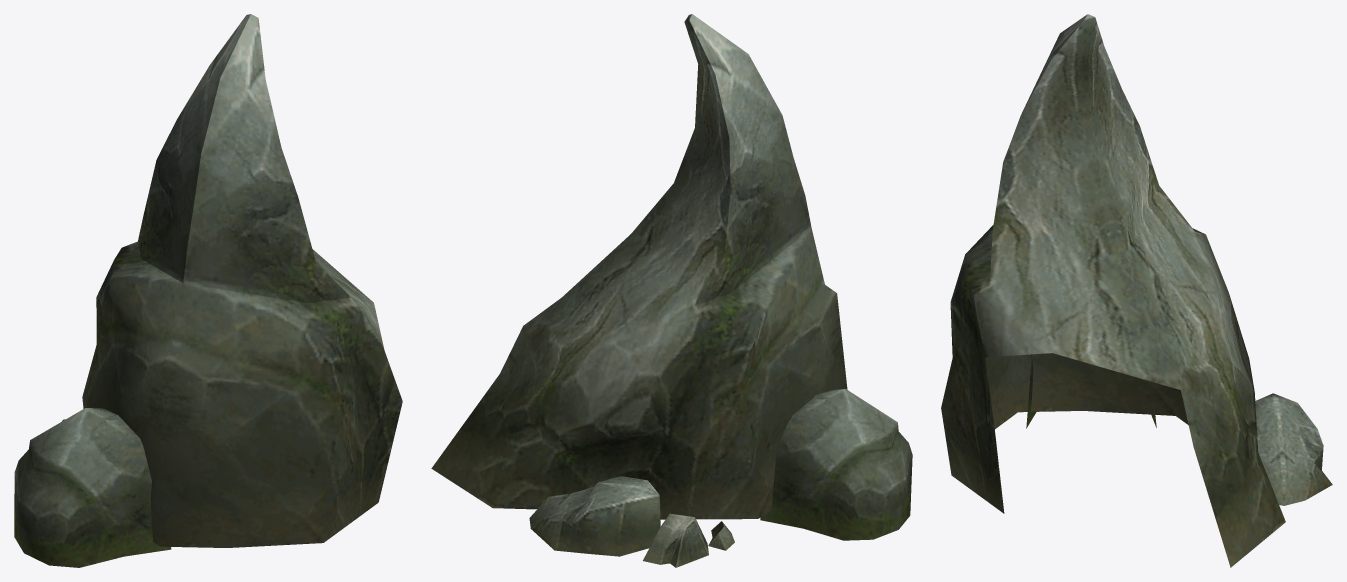
The model's file is 3004_Item_shitou_11.FBX.
3 renders of one model, left to right at view 1: azimuth 30°, elevation 25°; view 2: azimuth 150°, elevation 25°; view 3: azimuth 270°, elevation 25°, orthographic. The views are drawn at different scales.
Parts seen in each view (by area): view 1: 3004_Item_shitou_11; view 2: 3004_Item_shitou_11; view 3: 3004_Item_shitou_11.
Boxes of the visible parts, x1,y1,x2,y2 form: 3004_Item_shitou_11: (14, 14, 402, 567); 3004_Item_shitou_11: (431, 14, 912, 567); 3004_Item_shitou_11: (941, 14, 1332, 567).
Bounding box in the file's own units: 164 × 178 × 134.
